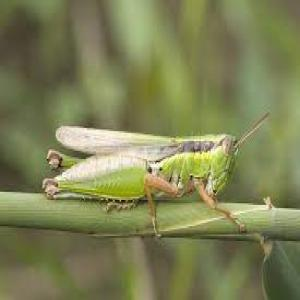locust: (42, 108, 280, 224)
